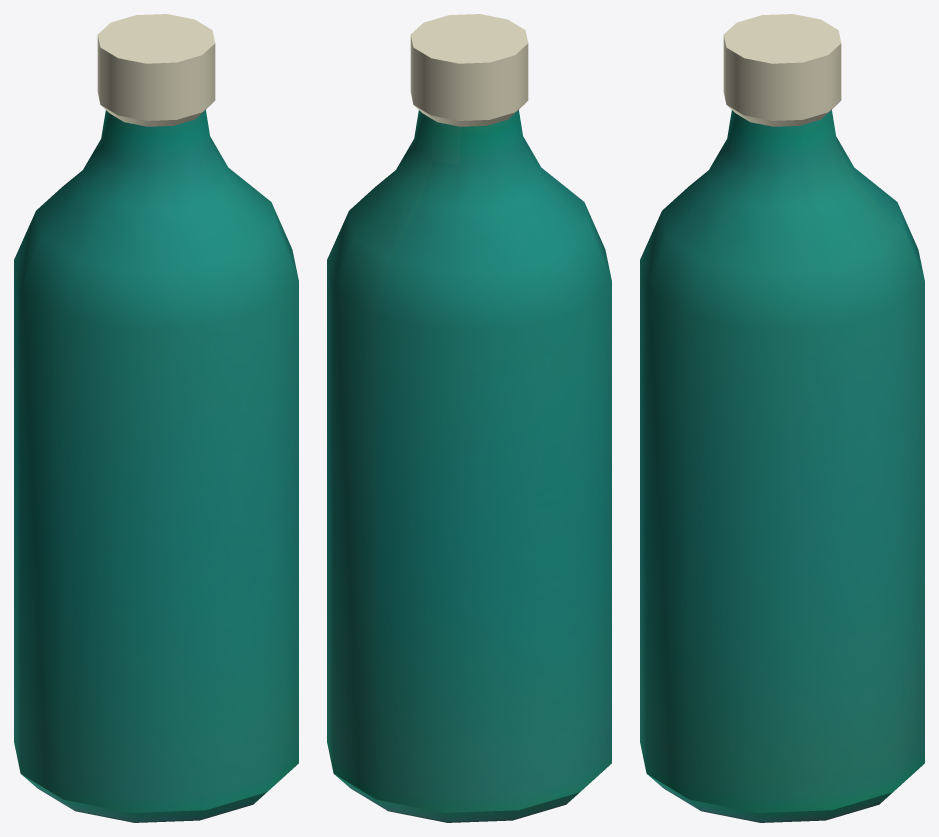
File: SM_drink_soda_05.fbx
3 renders of one model, left to right at view 1: azimuth 30°, elevation 25°; view 2: azimuth 150°, elevation 25°; view 3: azimuth 270°, elevation 25°, orthographic.
Visible parts, largest first — view 1: Cylinder066; view 2: Cylinder066; view 3: Cylinder066.
Boxes of the visible parts, left/top/right/bottom form: Cylinder066: left=14, top=14, right=298, bottom=822; Cylinder066: left=327, top=14, right=611, bottom=822; Cylinder066: left=640, top=14, right=924, bottom=822.
Bounding box in the file's own units: 9.03 × 25.6 × 9.03.
